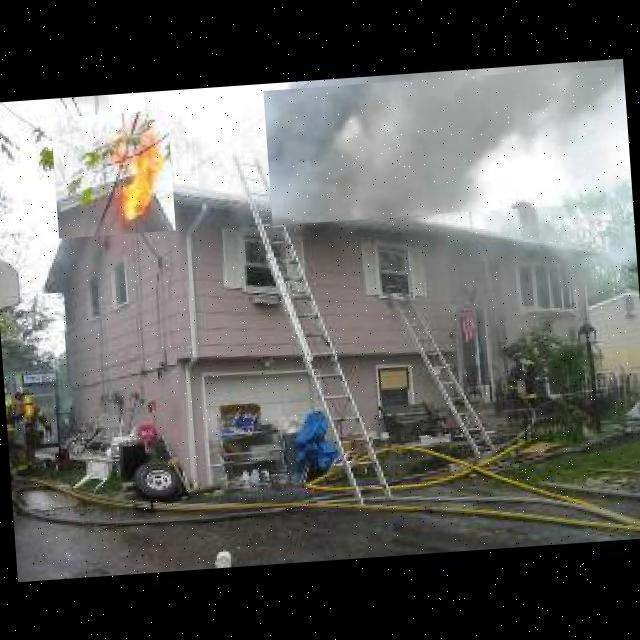fire: (262, 66, 624, 225), (51, 109, 176, 238)
